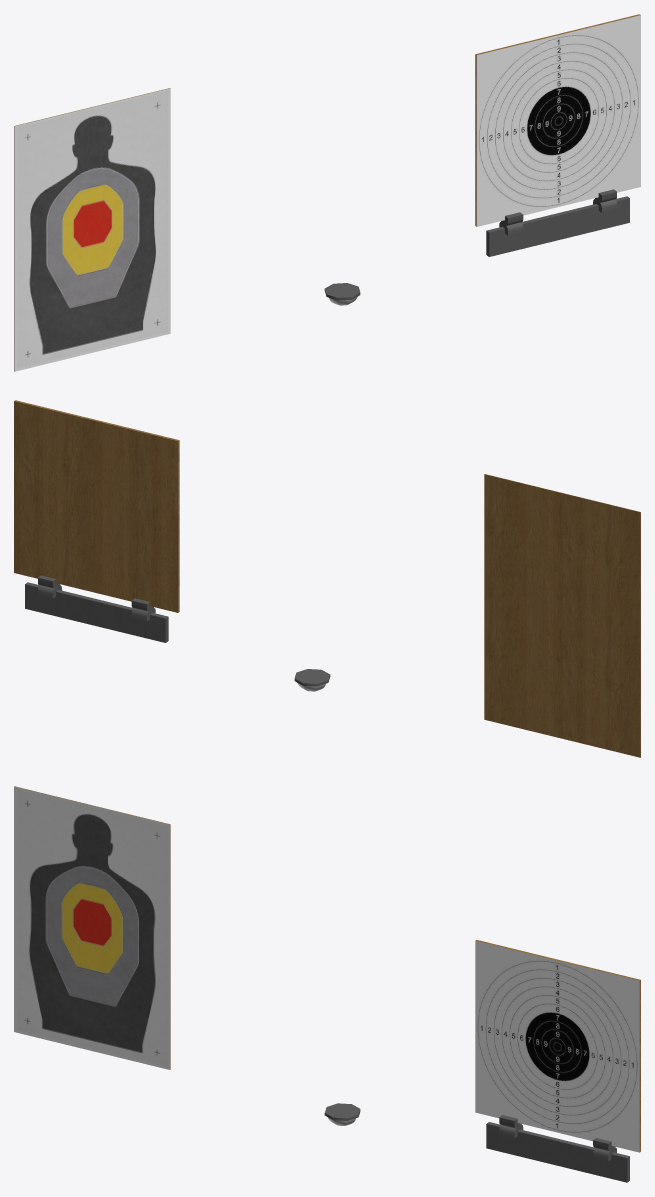
Rendered from targets_light.obj.
3 views of the same model, one above another, from view 1: azimuth 30°, elevation 25°; view 2: azimuth 150°, elevation 25°; view 3: azimuth 330°, elevation 25° (orthographic).
Visible parts, largest first — view 1: target_1, target_2, light; view 2: target_1, target_2, light; view 3: target_1, target_2, light.
Boxes of the visible parts, x1,y1,x2,y2 form: target_1: [14, 88, 170, 371]; target_2: [475, 14, 640, 256]; light: [324, 283, 360, 305]; target_1: [484, 474, 640, 757]; target_2: [14, 400, 179, 642]; light: [294, 669, 330, 691]; target_1: [14, 786, 170, 1069]; target_2: [475, 940, 640, 1182]; light: [324, 1103, 360, 1125].
Size of the model in its own units: 4 by 1.58 by 0.2046.
Materials: 4 (3 with a texture image).
